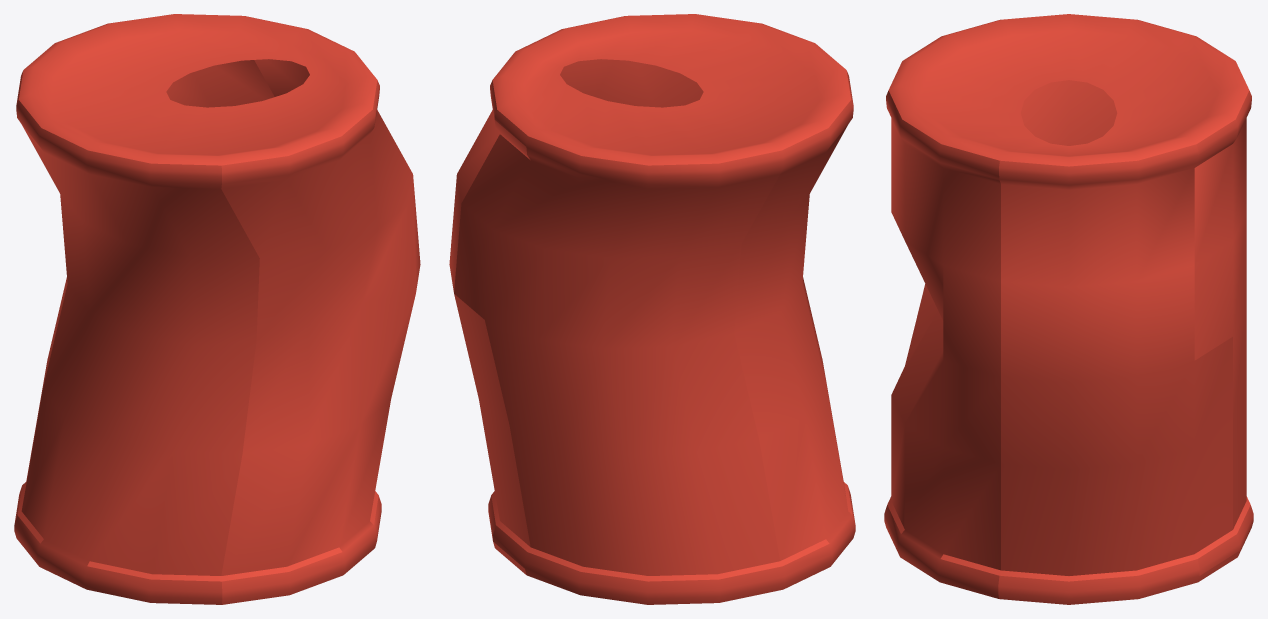
The model's file is lata1.glb.
3 renders of one model, left to right at view 1: azimuth 30°, elevation 25°; view 2: azimuth 150°, elevation 25°; view 3: azimuth 270°, elevation 25°, orthographic.
Parts seen in each view (by area): view 1: Cylinder_001_garbage_0; view 2: Cylinder_001_garbage_0; view 3: Cylinder_001_garbage_0.
Boxes of the visible parts, left/top/right/bottom form: Cylinder_001_garbage_0: left=14, top=14, right=420, bottom=604; Cylinder_001_garbage_0: left=449, top=14, right=855, bottom=604; Cylinder_001_garbage_0: left=884, top=14, right=1253, bottom=604.
Bounding box in the file's own units: 3.17 × 3.74 × 2.82.
